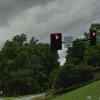Traffic light: (41, 18, 74, 60)
